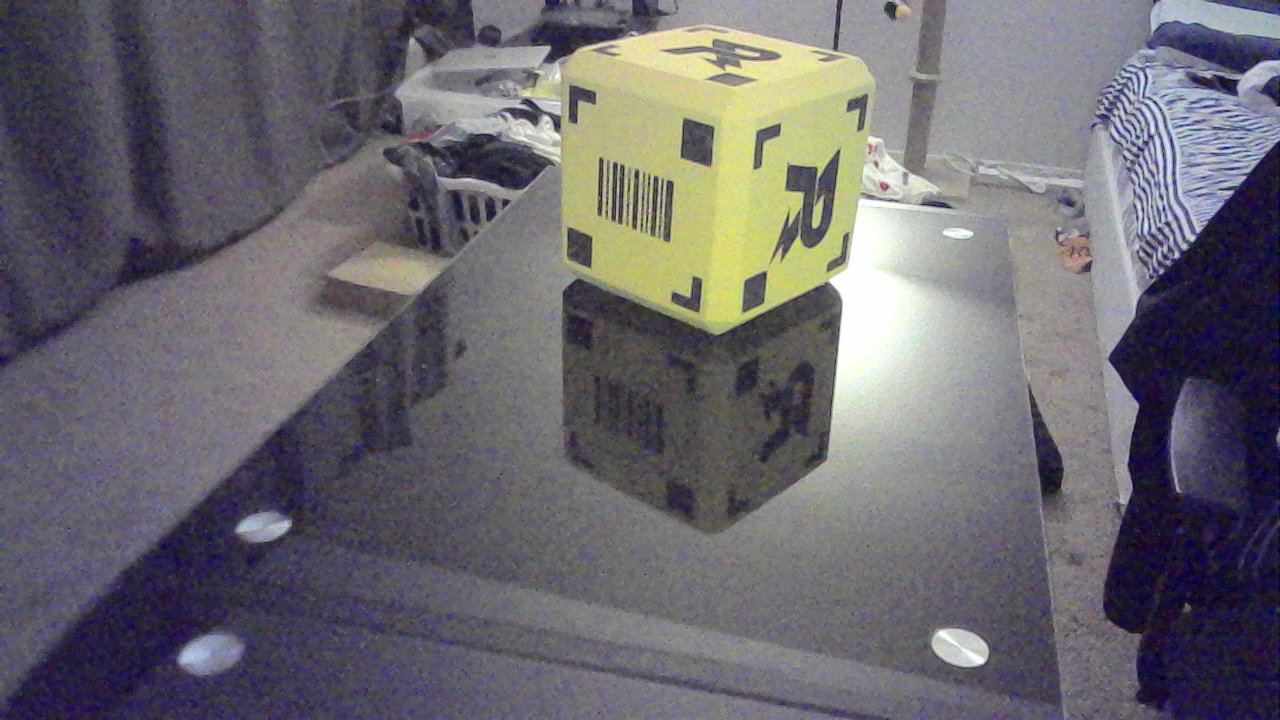Barcode: (594, 163, 698, 244)
R: (788, 156, 853, 264), (665, 32, 793, 82)
